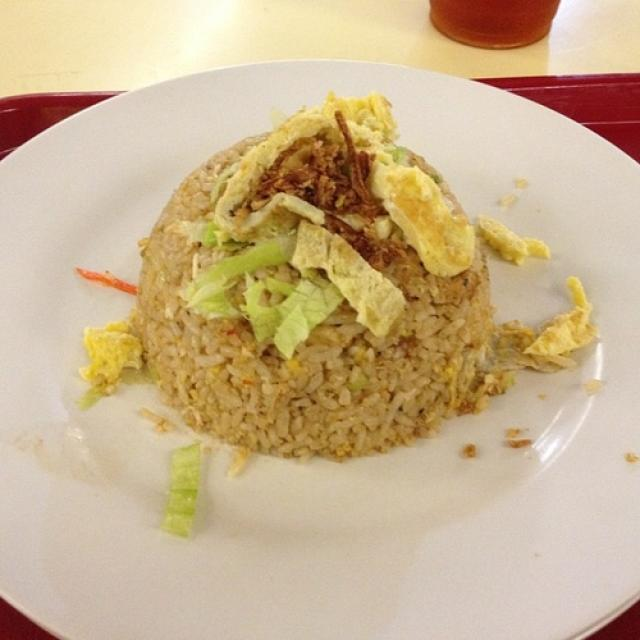米饭主食: (40, 74, 599, 592)
